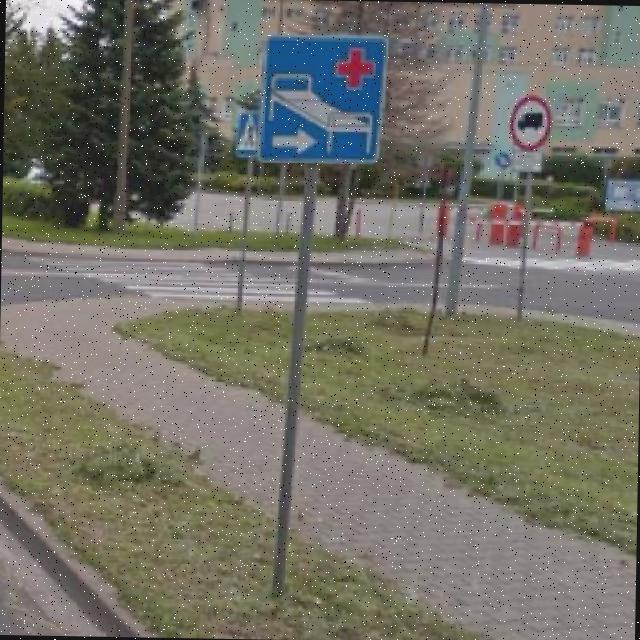Przejscie dla pieszych: (234, 110, 262, 156)
